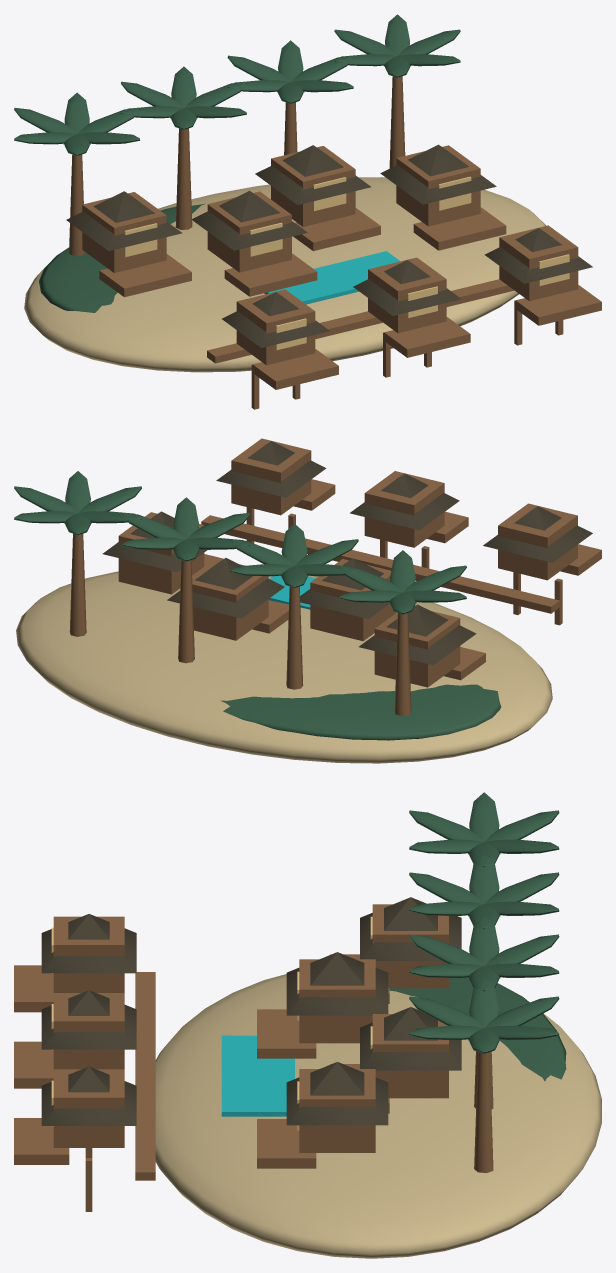
The model's file is property.glb.
The picture shows the model from 3 angles, top to bottom: view 1: azimuth 30°, elevation 25°; view 2: azimuth 150°, elevation 25°; view 3: azimuth 270°, elevation 25°; orthographic projection. The views are drawn at different scales.
Size of the model in its own units: 6 by 2.19 by 5.21.
